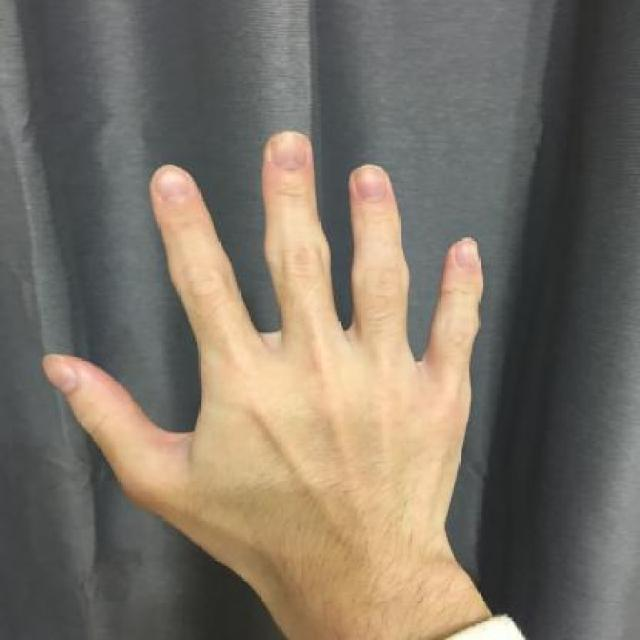bare_hand: (34, 120, 503, 622)
